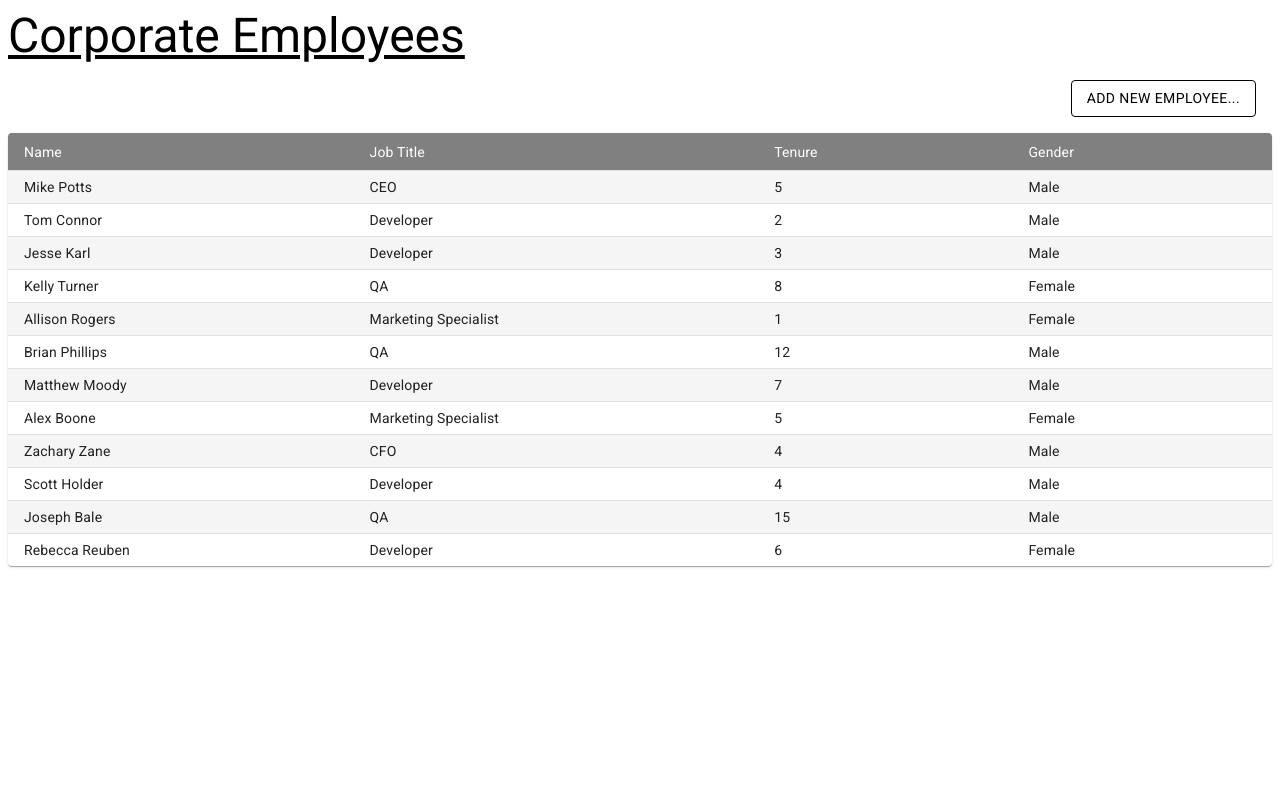
Test: Add new employee › Verify adding empty employee and check it in the table
The width and height of the screenshot is (1280, 800).
Expected: the heading "corporate employees" is shown, [8,7,465,64]
Click the button with test id "addNewEmployee": click(1164, 99) [1071,80,1256,117]
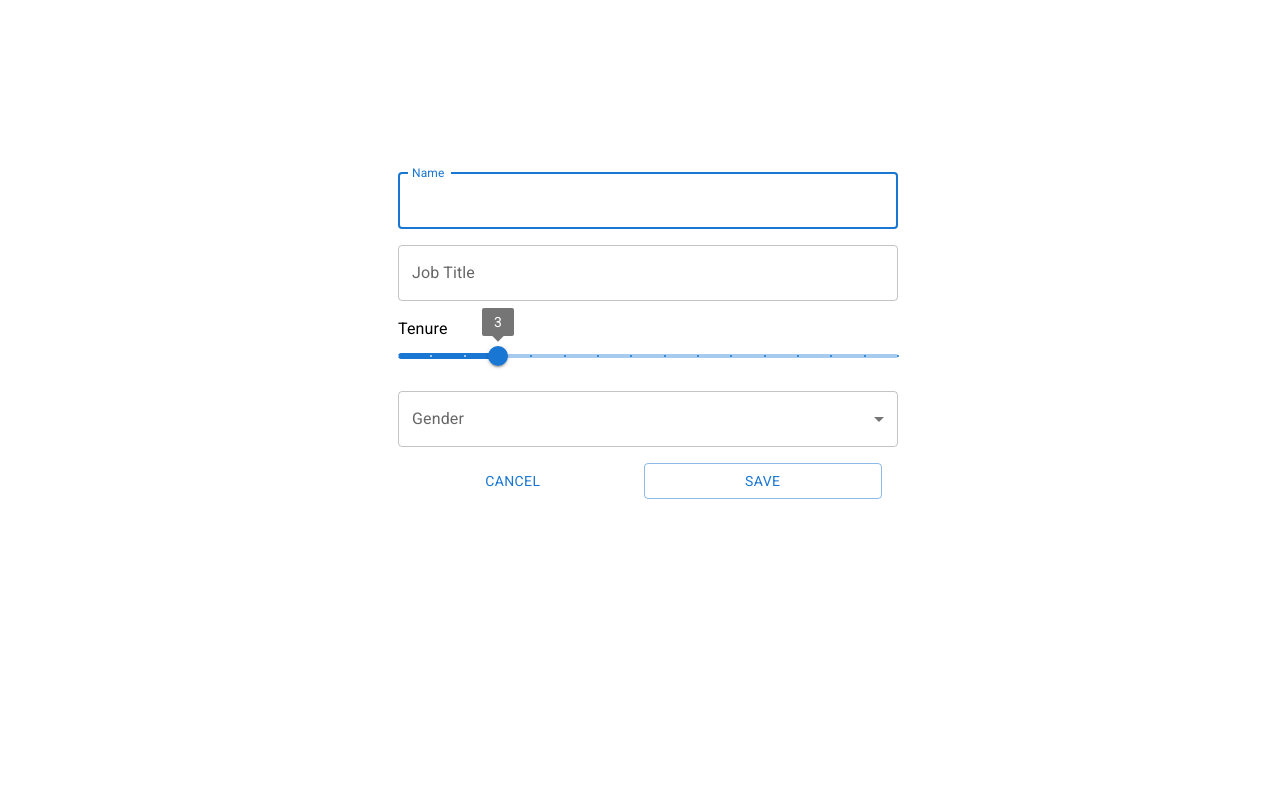
Click the button with test id "submit": click(764, 482) [644,463,883,500]
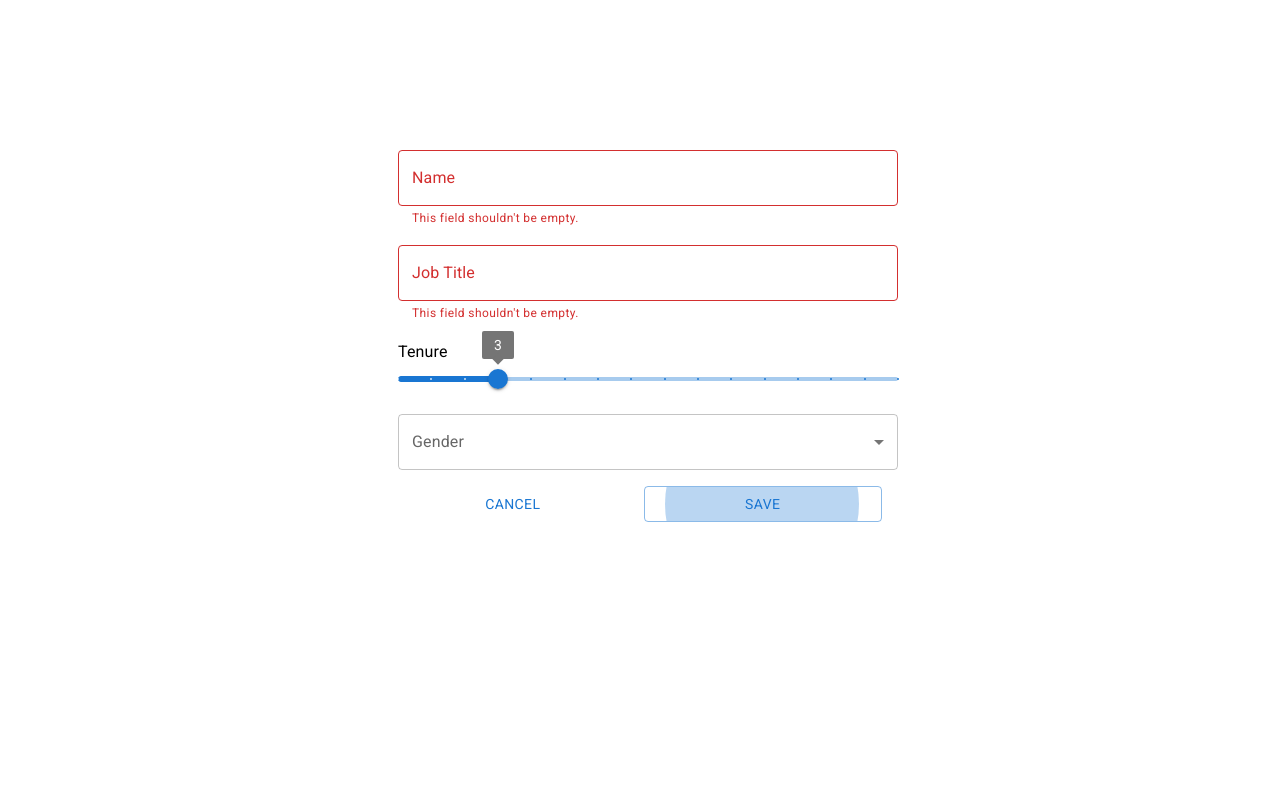
Expected: the text "This field shouldn't be empty." below "Name" is shown, [412,211,579,225]
Expected: the text with id "jobTitle-helper-text" is shown, [412,306,579,320]
